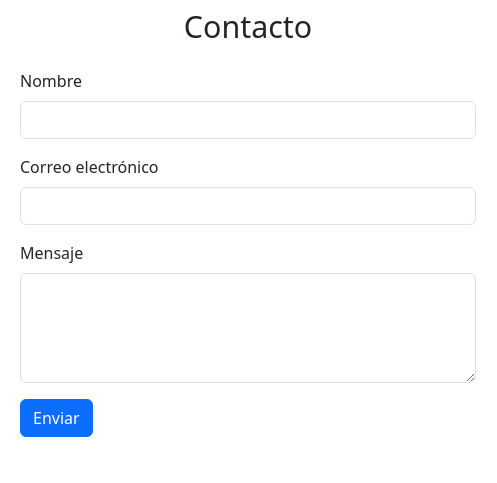
Test: ContactForm › rechaza un correo con formato inválido
This screenshot has width=497, height=483.
Type "Ada" into the field labelled "Nombre".
click(248, 120); type("Ada")  # box [20,100,476,138]
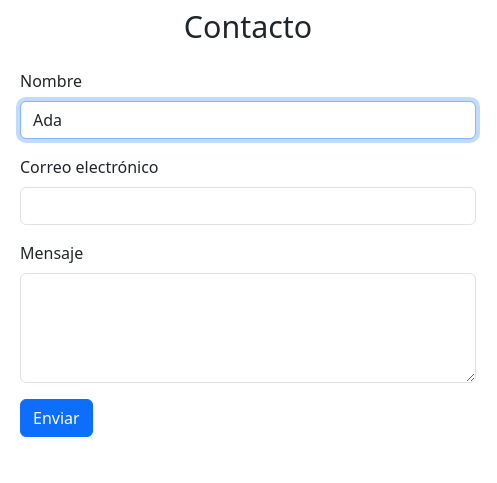
Type "ada@correo" into the field labelled "Correo electrónico".
click(248, 206); type("ada@correo")  # box [20,186,476,224]
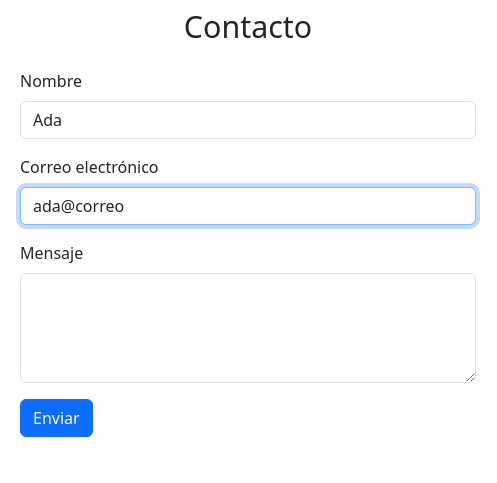
Type "Mensaje de prueba largo" into the text box labelled "Mensaje".
click(248, 328); type("Mensaje de prueba largo")  # box [20,272,476,382]
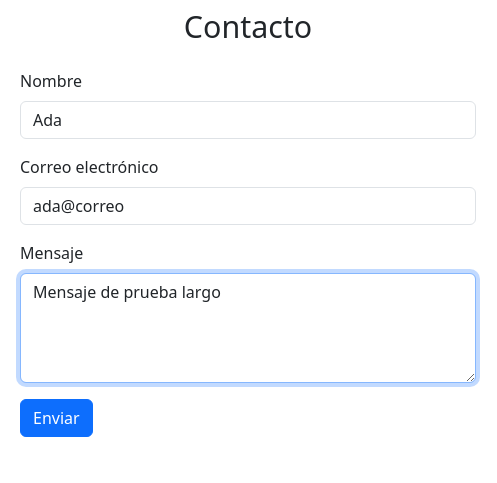
Click the button "Enviar".
click(56, 418)  # box [20,398,93,436]
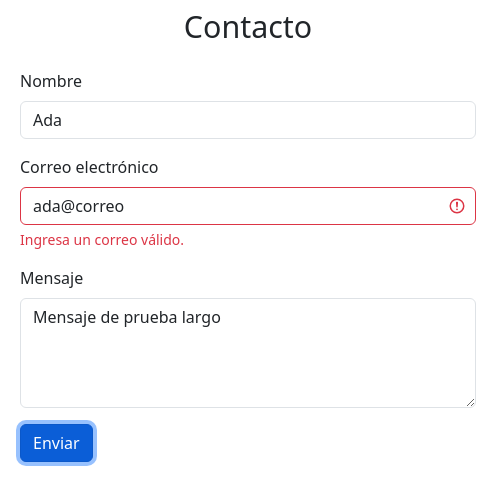
Now the text "Ingresa un correo válido." is shown, box [20,230,184,248]
